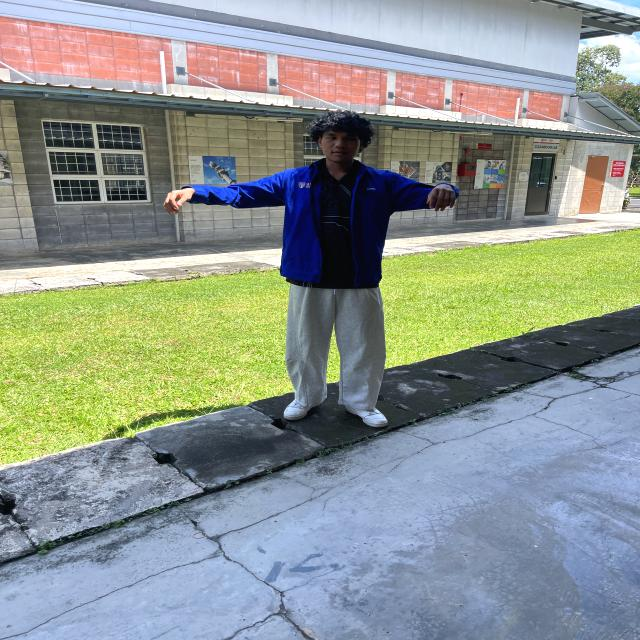person_with_labcoat: (165, 111, 459, 426)
